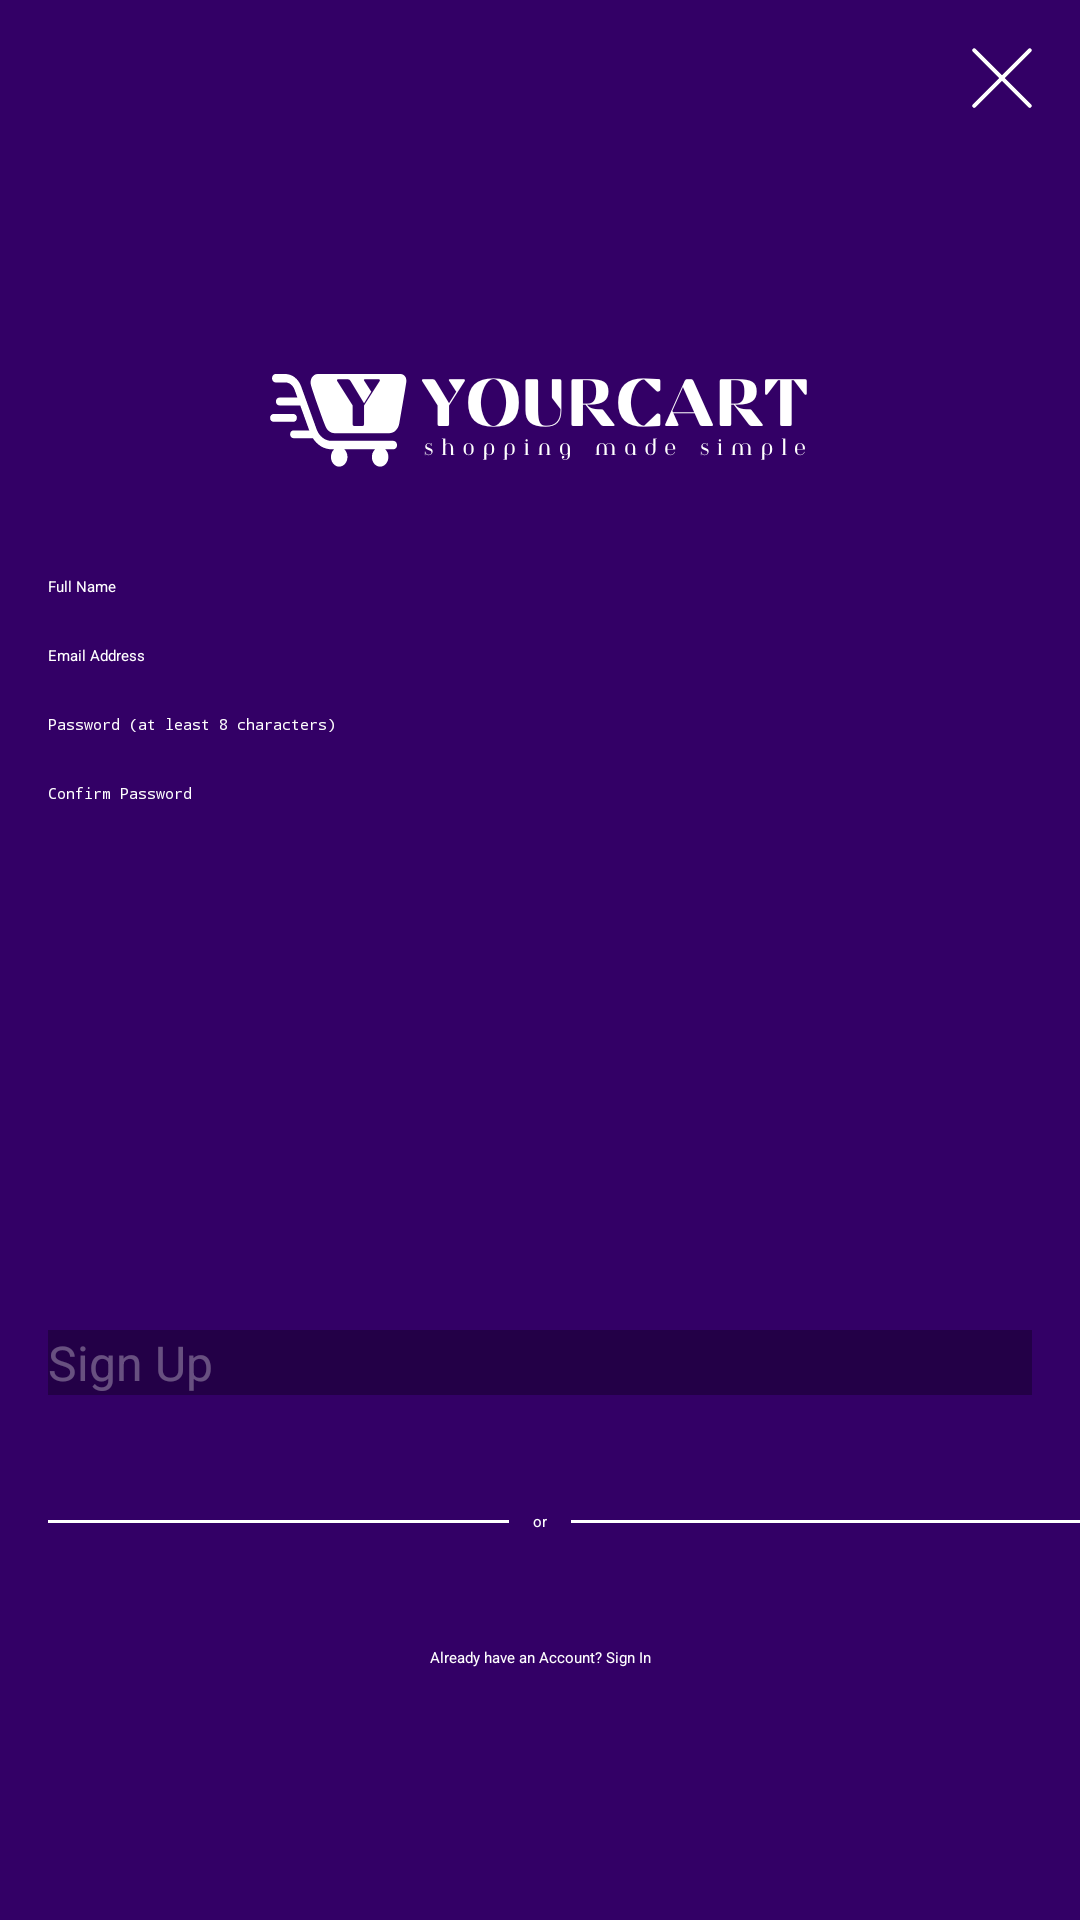

Screen size 1080px x 1920px. Icon name, then its center in pixels as (x,y):
closecross: (1002,78)
